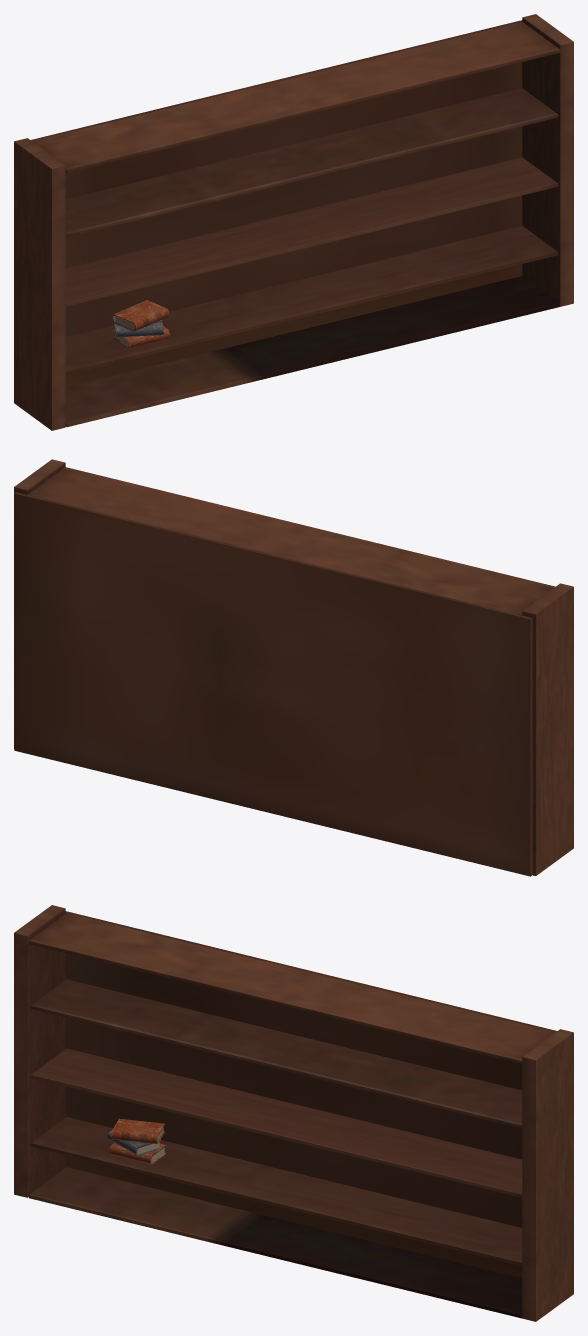
The model's file is BookRack04.fbx.
The picture shows the model from 3 angles, top to bottom: view 1: azimuth 30°, elevation 25°; view 2: azimuth 150°, elevation 25°; view 3: azimuth 330°, elevation 25°; orthographic projection.
Visible parts, largest first — view 1: BookRack04; view 2: BookRack04; view 3: BookRack04.
Boxes of the visible parts, box(x1,y1,x2,y2) form: BookRack04: box(14, 14, 573, 430); BookRack04: box(14, 459, 573, 876); BookRack04: box(14, 905, 573, 1321).
Bounding box in the file's own units: 670 × 321 × 88.45.
Materials: 1 (1 with a texture image).
